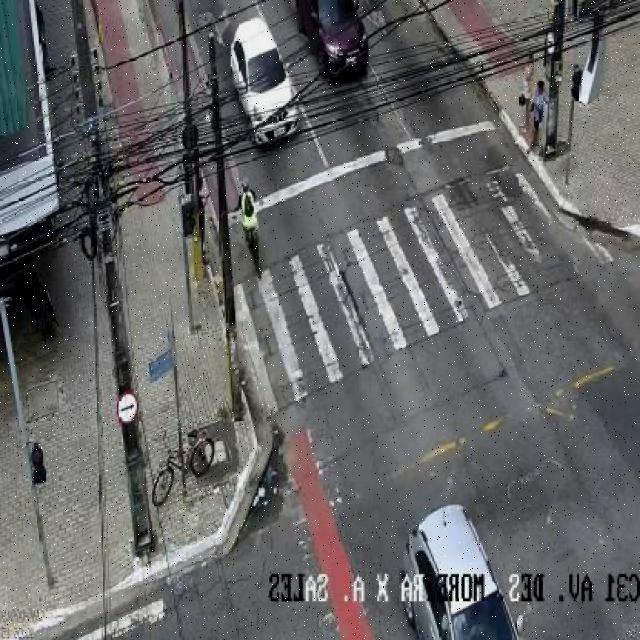Car: (403, 495, 532, 640), (205, 21, 303, 158), (292, 5, 380, 80)
Cycle: (120, 420, 228, 511)
